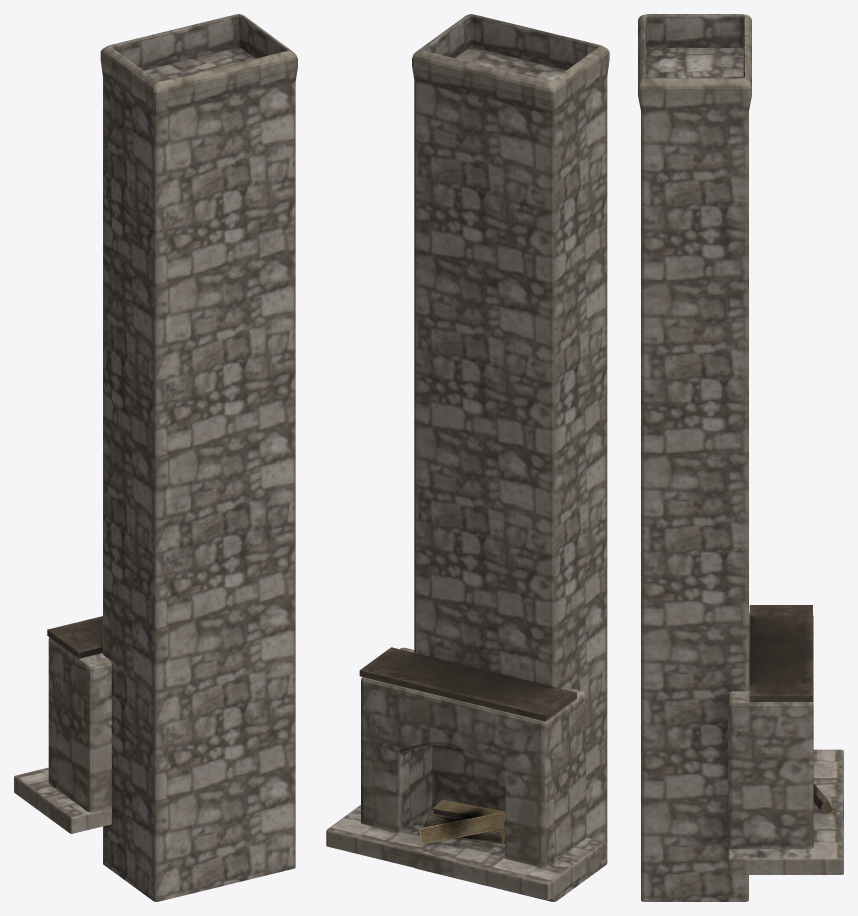
The model's file is BW_Bakery01_Oven.fbx.
The picture shows the model from 3 angles, left to right: view 1: azimuth 30°, elevation 25°; view 2: azimuth 150°, elevation 25°; view 3: azimuth 270°, elevation 25°; orthographic projection.
Parts seen in each view (by area): view 1: BW_Bakery01_Oven; view 2: BW_Bakery01_Oven; view 3: BW_Bakery01_Oven.
Boxes of the visible parts, bbox=[...] form: BW_Bakery01_Oven: bbox=[14, 14, 297, 901]; BW_Bakery01_Oven: bbox=[326, 14, 609, 901]; BW_Bakery01_Oven: bbox=[638, 14, 843, 901].
Size of the model in its own units: 1.85 by 6.49 by 1.48.
